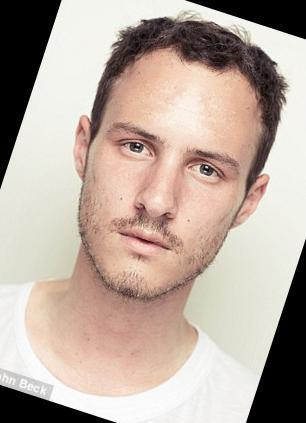Sober: (95, 72, 247, 271)
